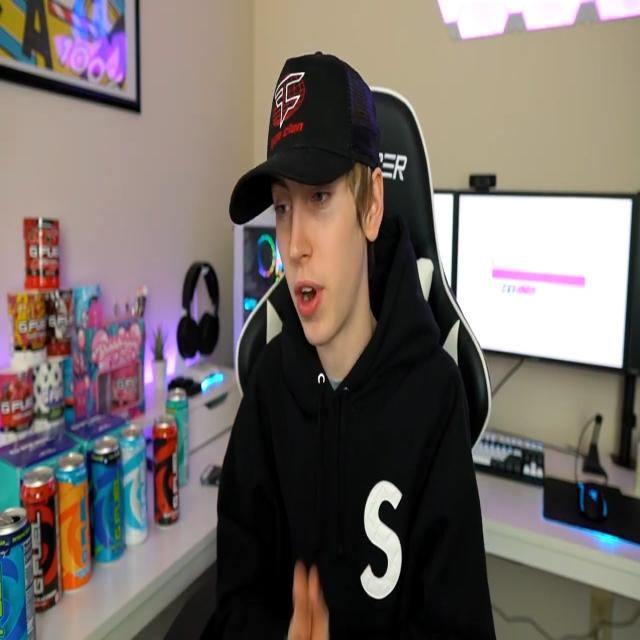can: (19, 462, 65, 611), (53, 445, 94, 592), (88, 432, 126, 568), (0, 505, 36, 640), (118, 423, 148, 551), (150, 413, 182, 532), (164, 383, 190, 490)
